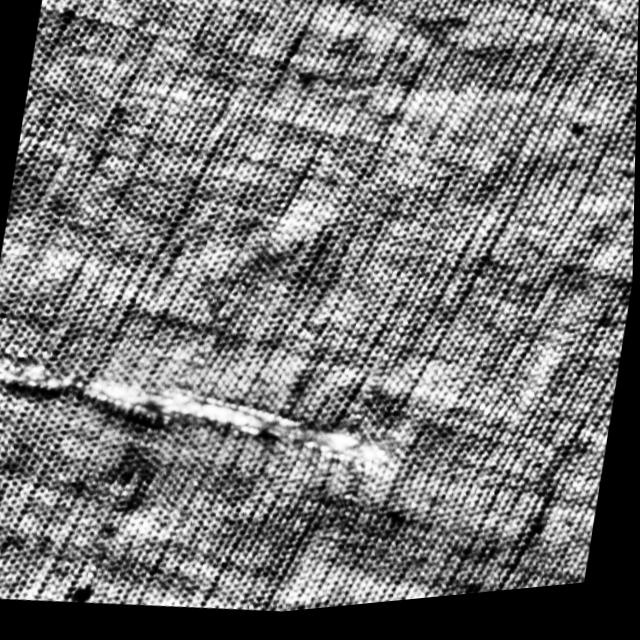Stitch: (0, 292, 413, 537)
